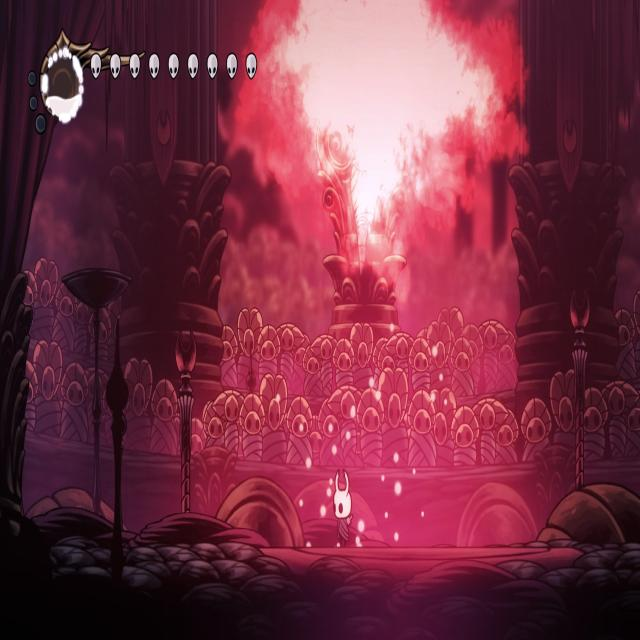Fireball: (285, 0, 487, 207)
Player: (332, 463, 357, 548)
